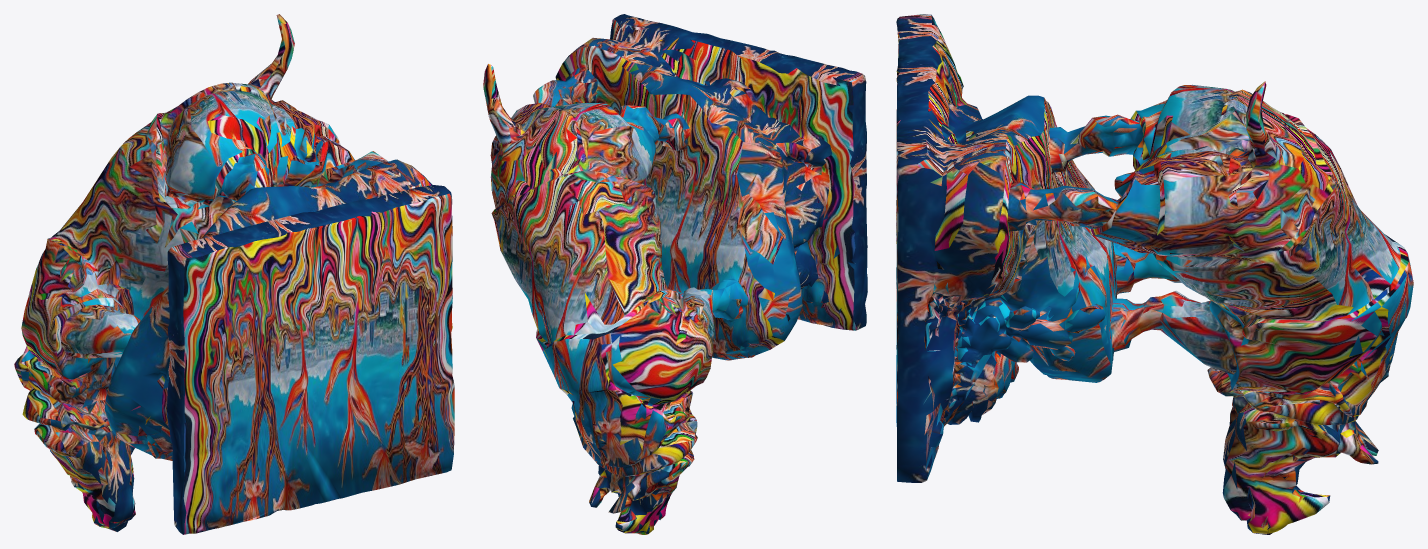
Rendered from tds_rhino.glb.
3 renders of one model, left to right at view 1: azimuth 30°, elevation 25°; view 2: azimuth 150°, elevation 25°; view 3: azimuth 270°, elevation 25°, orthographic. The views are drawn at different scales.
Visible parts, largest first — view 1: A; view 2: A; view 3: A.
Boxes of the visible parts, bbox=[...] form: A: bbox=[14, 14, 454, 534]; A: bbox=[483, 14, 867, 534]; A: bbox=[896, 14, 1413, 534].
Size of the model in its own units: 1.32 by 2 by 1.72.
1 material, 1 textured.
